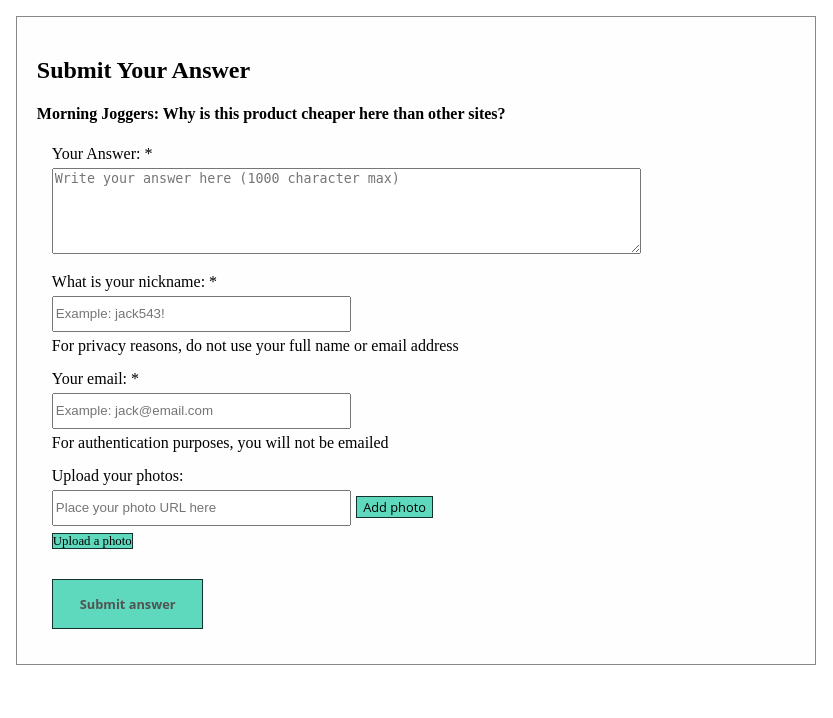
Test: Answer Modal Component › should give an error message if user does not fill fields properly
This screenshot has width=833, height=718.
Click the button with id "answersubmit".
click(128, 604)  # box [52,579,204,629]
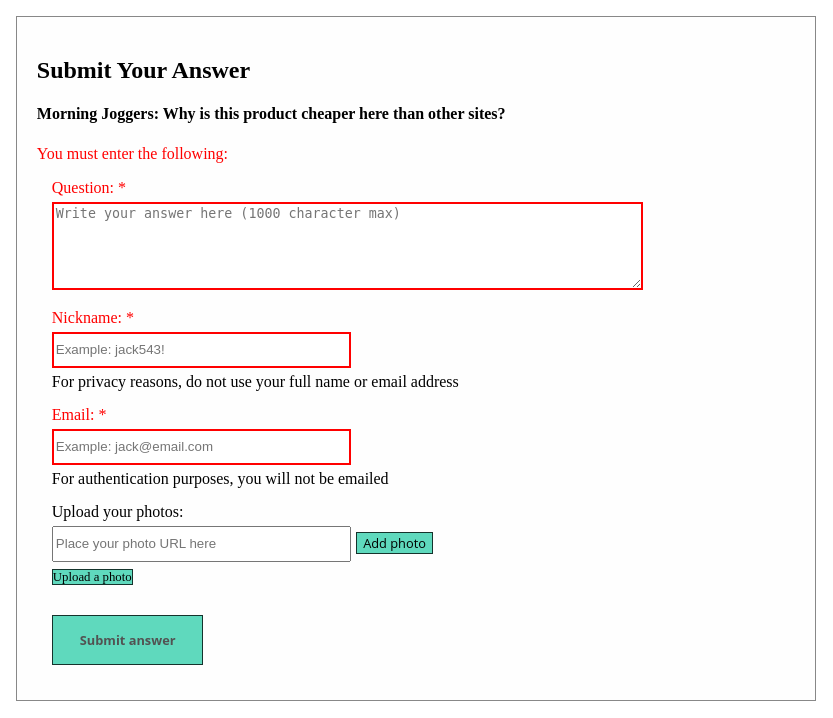
Expected: the text box with id "answerCheck" is shown, [52,202,642,290]
Now the text "You must enter the following:" is shown, box [37,145,228,162]
